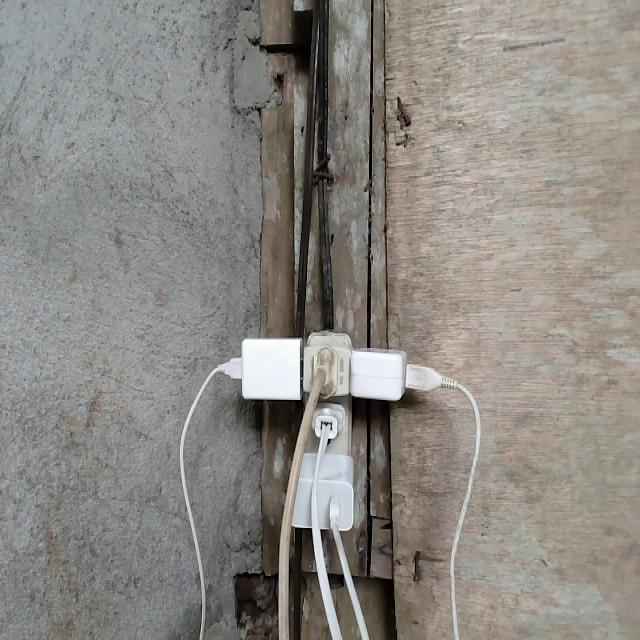-: (203, 328, 454, 535)
